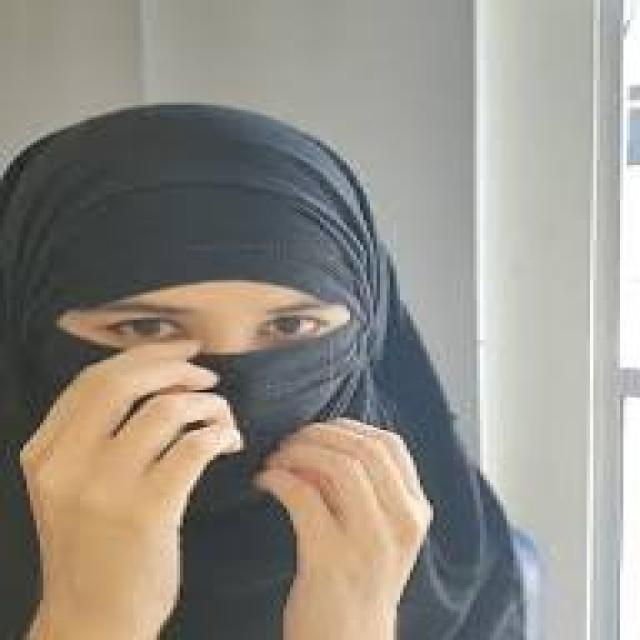8_ropa_rostro: (37, 327, 362, 523)
